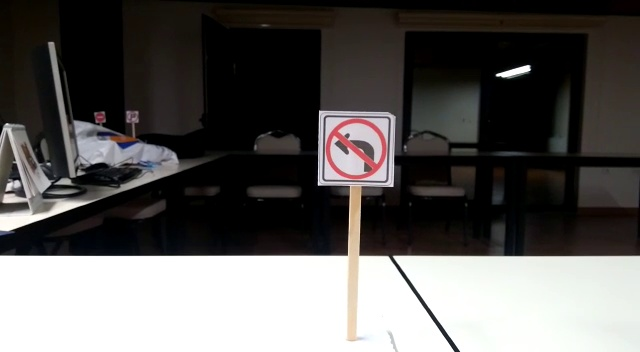sola_donulmez: (321, 114, 390, 183)
